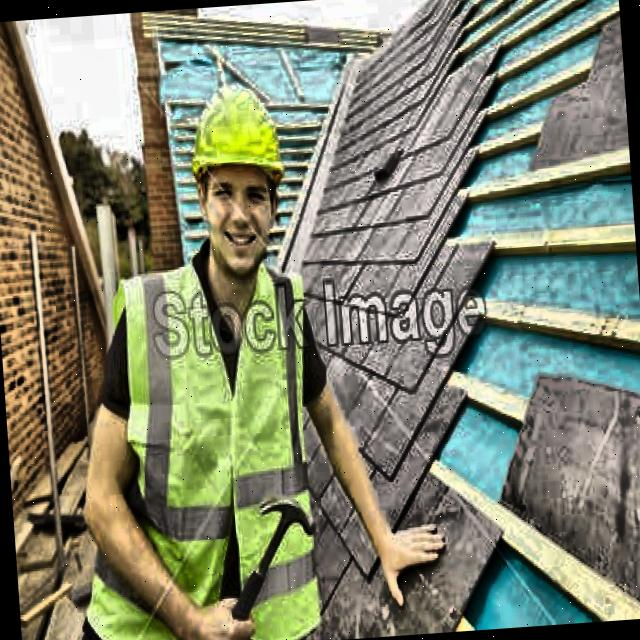helmet: (174, 62, 300, 285)
